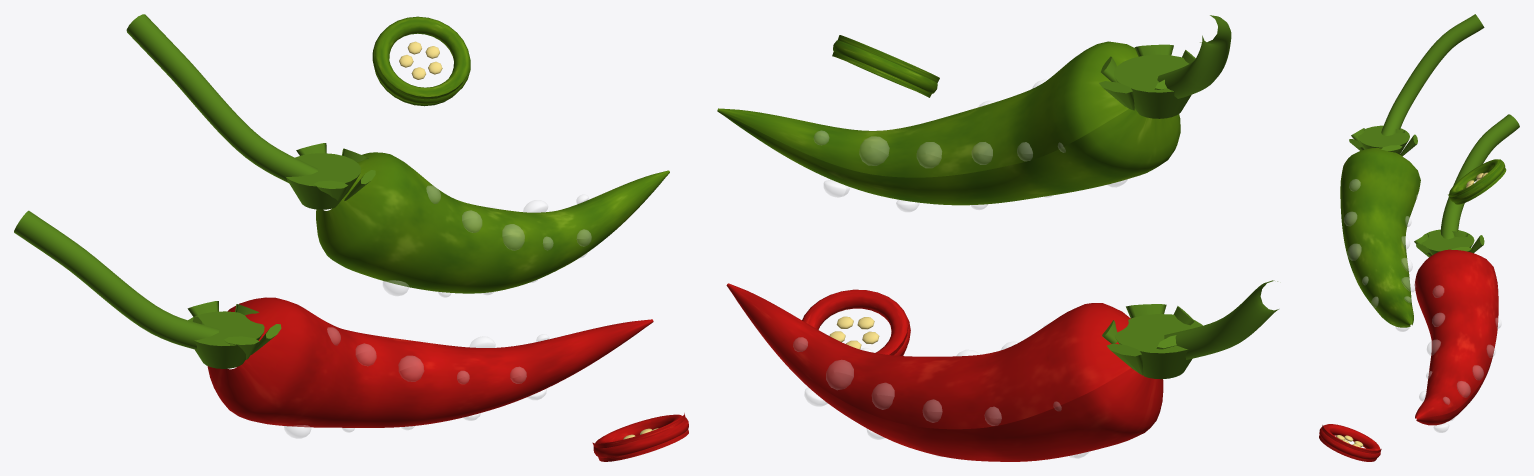
File: chili-duo.glb
The picture shows the model from 3 angles, left to right: view 1: azimuth 30°, elevation 25°; view 2: azimuth 150°, elevation 25°; view 3: azimuth 270°, elevation 25°; orthographic projection. The views are drawn at different scales.
Visible parts, largest first — view 1: chili-duo; view 2: chili-duo; view 3: chili-duo.
Part boxes in pixels (box(x1,y1,x2,y2)): chili-duo: box(14, 14, 688, 461); chili-duo: box(717, 15, 1278, 461); chili-duo: box(1319, 14, 1519, 461).
Size of the model in its own units: 0.0939 by 0.0736 by 0.0428.
5 materials, 2 textured.
